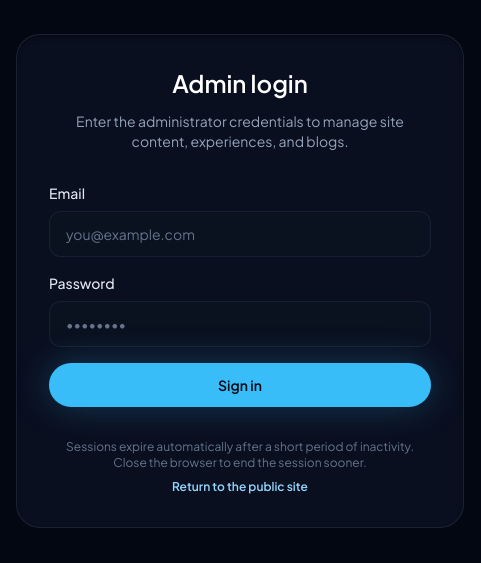
Scenario: LoginPage › shows server error message when login fails with Error object
Step 1. Type "admin@example.com" into the field labelled "Email" → (240, 234), box [49,211,431,257]
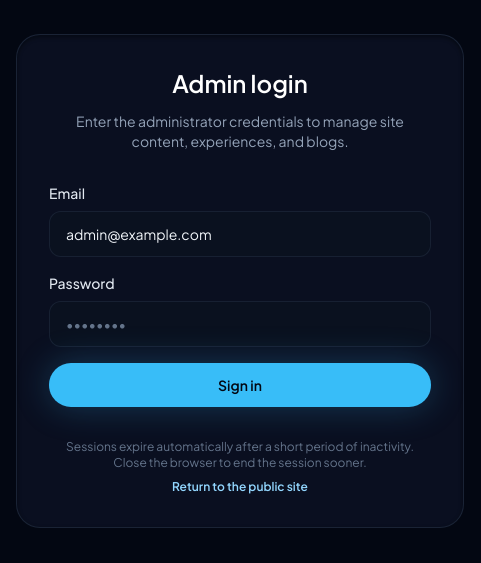
Step 2. Type "wrong" into the password field labelled "Password" → (240, 324), box [49,301,431,347]
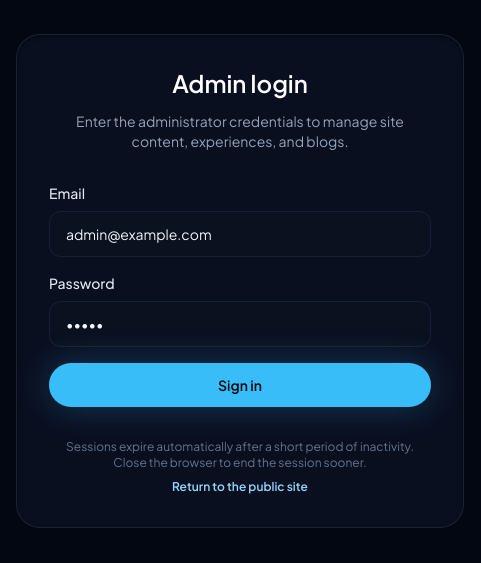
Step 3. Click the button "Sign in" → (240, 385), box [49,363,431,407]
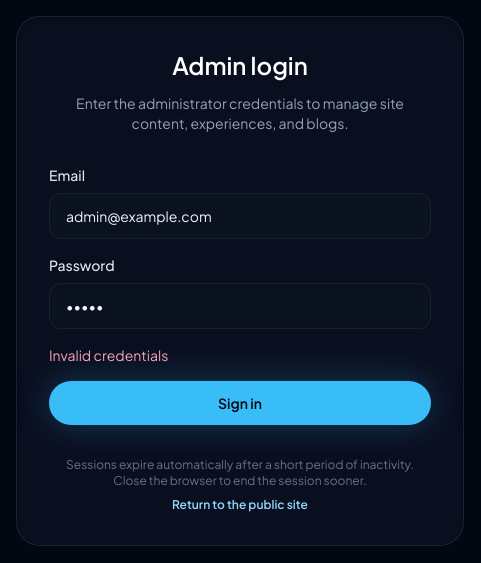
Expected: the text "Invalid credentials" is shown, [49,346,168,364]
